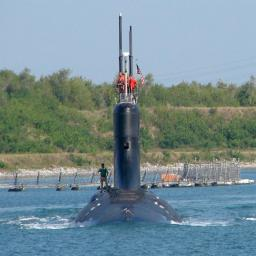submarine: (73, 14, 186, 225)
